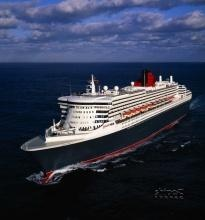youlun: (20, 59, 192, 179)
